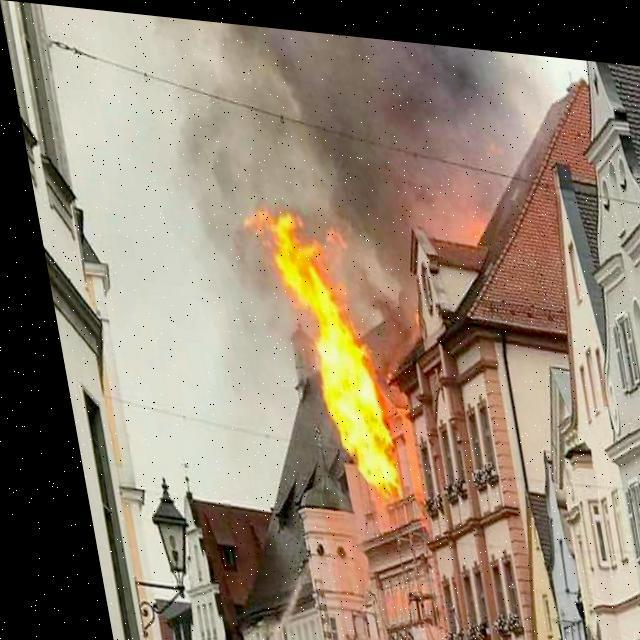Fire: (239, 199, 398, 482)
